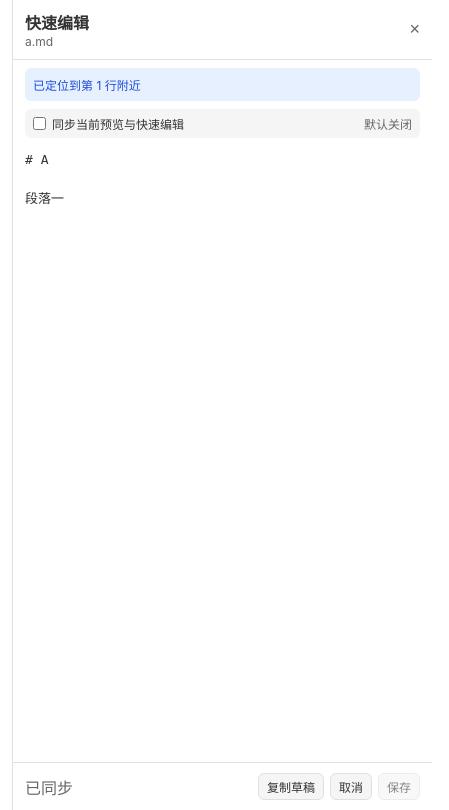
Test: QuickEditDrawer › hides one-time location feedback when scroll sync is active
Expected: the text "已定位到第 1 行附近" is shown, [25,68,420,101]
Click the switch named "同步当前预览区与快速编辑区滚动" at (40, 124), box [33,117,46,130]
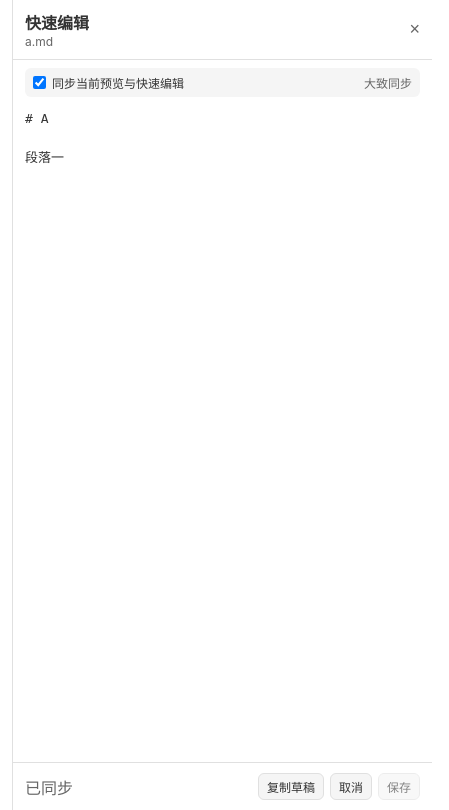
Result: the text "已定位到第 1 行附近" is gone
